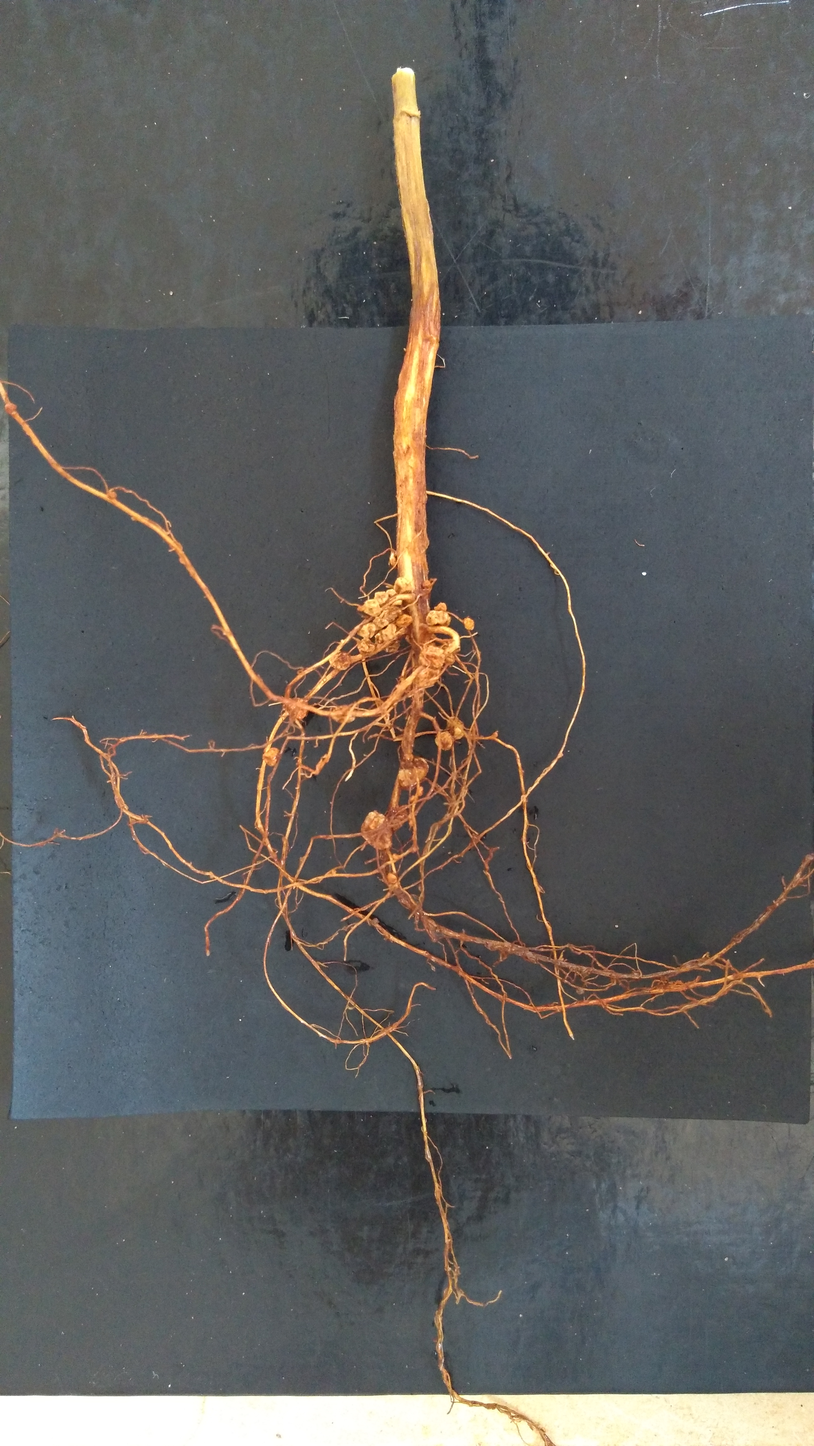nodule: (359, 808, 394, 852), (396, 755, 430, 788), (374, 622, 417, 643), (416, 644, 446, 669), (411, 666, 443, 688), (329, 704, 359, 725), (286, 696, 311, 721), (444, 715, 466, 742), (424, 609, 452, 629), (328, 651, 351, 672), (434, 728, 454, 752), (261, 746, 280, 768), (382, 605, 405, 623), (392, 576, 413, 595), (363, 598, 382, 617), (356, 622, 376, 640), (395, 612, 415, 630), (357, 637, 377, 652), (373, 590, 390, 607), (380, 621, 396, 639), (462, 615, 476, 633), (372, 616, 389, 630), (432, 600, 448, 612), (386, 871, 398, 884), (385, 588, 398, 599)
